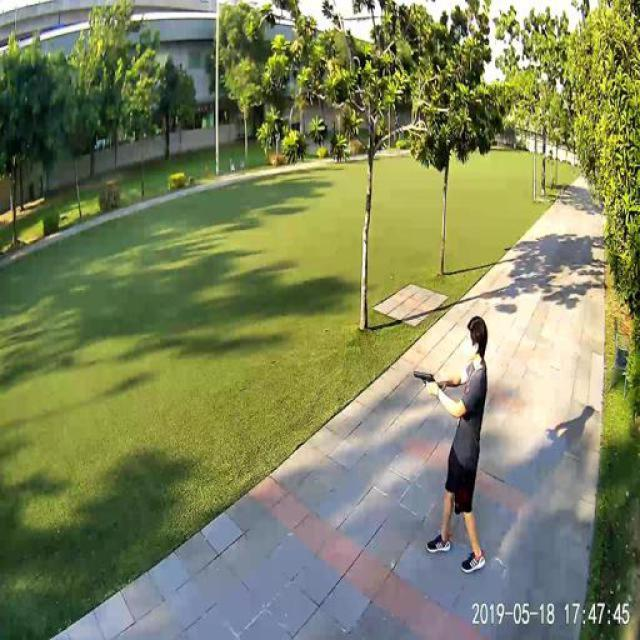weapon: (412, 369, 438, 397)
